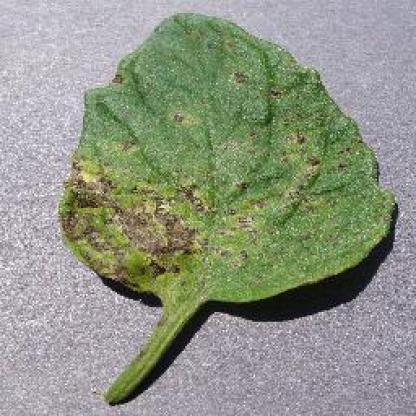bad leaf: (45, 12, 386, 340), (90, 41, 346, 164), (62, 130, 196, 364), (67, 172, 398, 266), (245, 72, 344, 329)
